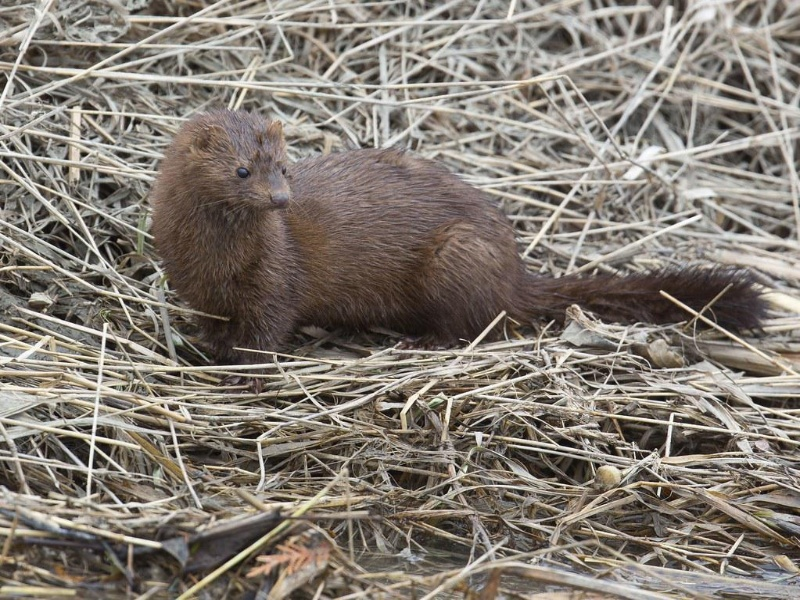minkish: (147, 111, 771, 382)
